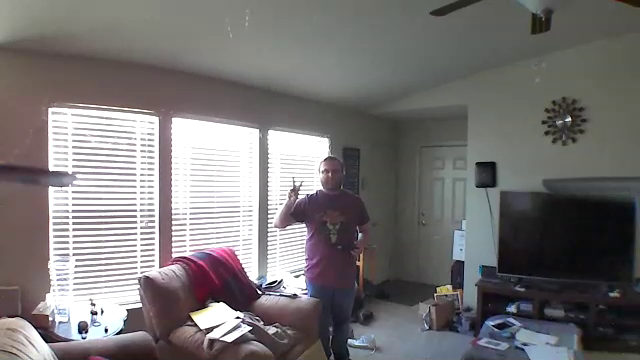peace: (285, 175, 307, 203)
